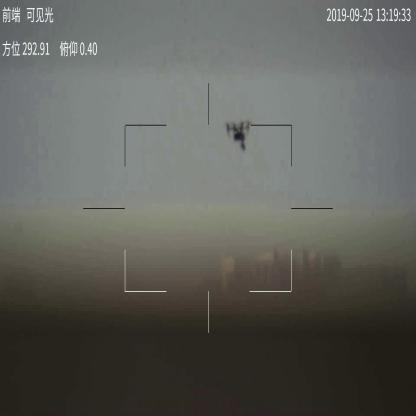uav: (224, 120, 252, 149)
